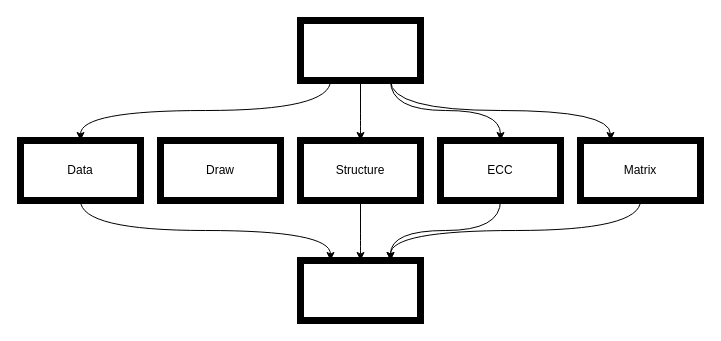
Image size: 721x341. Some labels were removed from this diagram. The shapes that lost their labels are listed below. From the top down, each one's centre as x and y in pixels, then its label:
At (360,50): "Main (Terminal, Input, GUI)".
At (360,290): "Constant".
